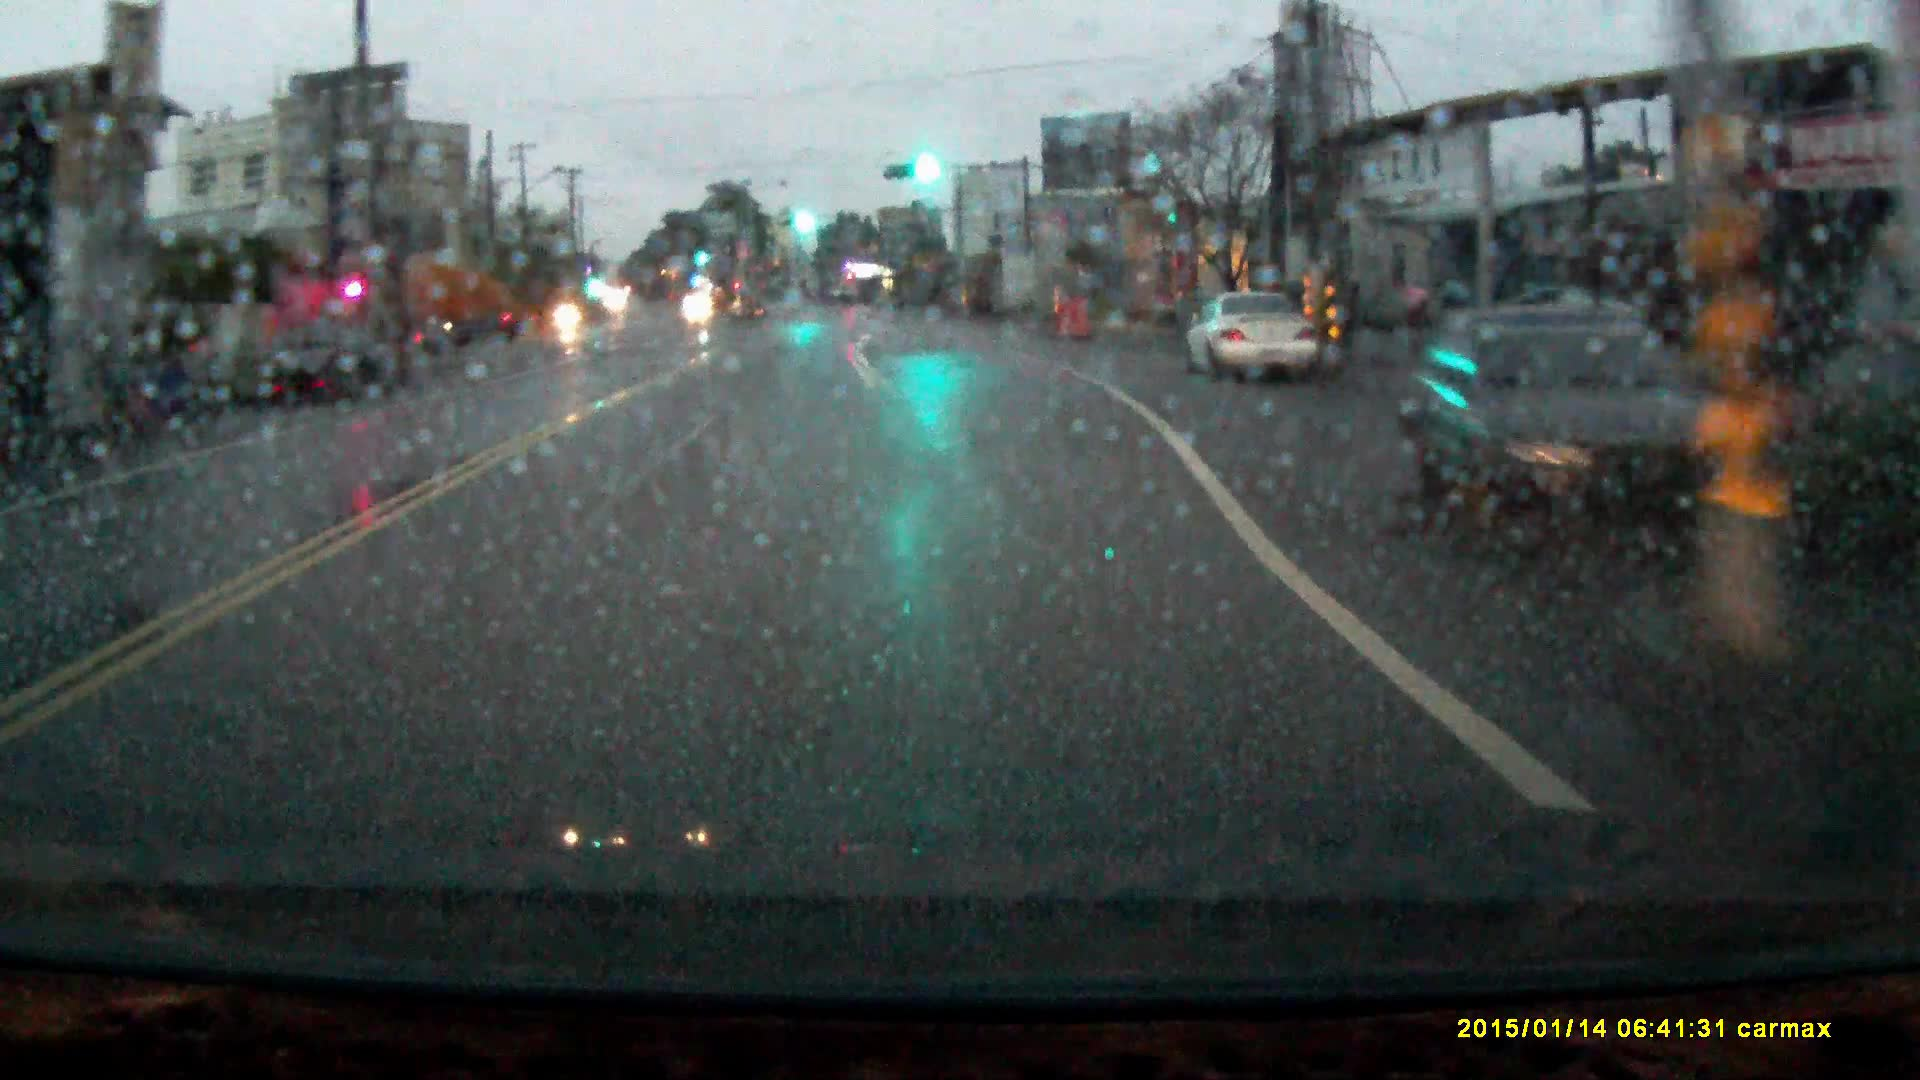rider: (551, 285, 585, 344)
vehicle: (1396, 317, 1738, 541), (1182, 288, 1315, 383), (259, 320, 397, 400), (394, 261, 527, 343), (684, 295, 712, 318)
